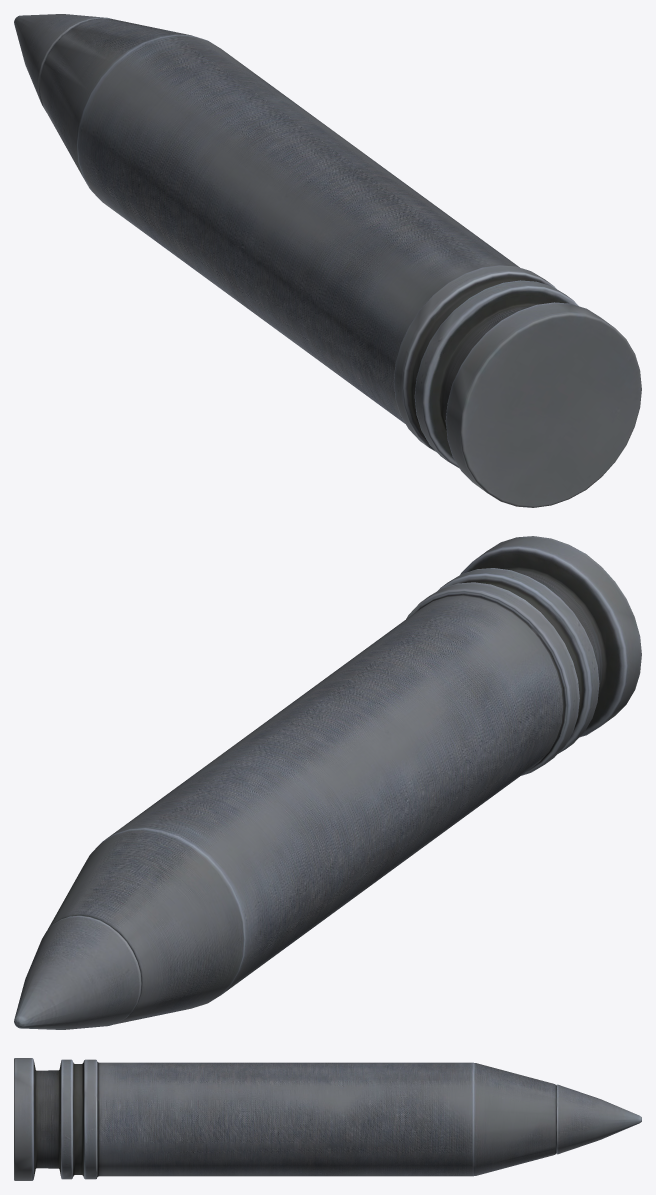
The model's file is metal-bolt.glb.
3 renders of one model, top to bottom at view 1: azimuth 30°, elevation 25°; view 2: azimuth 150°, elevation 25°; view 3: azimuth 270°, elevation 25°, orthographic. The views are drawn at different scales.
Parts seen in each view (by area): view 1: MetalBolt; view 2: MetalBolt; view 3: MetalBolt.
Boxes of the visible parts, x1,y1,x2,y2 form: MetalBolt: (14, 14, 641, 507); MetalBolt: (14, 536, 641, 1029); MetalBolt: (14, 1058, 641, 1180).
Bounding box in the file's own units: 0.1293 × 0.1293 × 0.66.
1 material, 1 textured.
